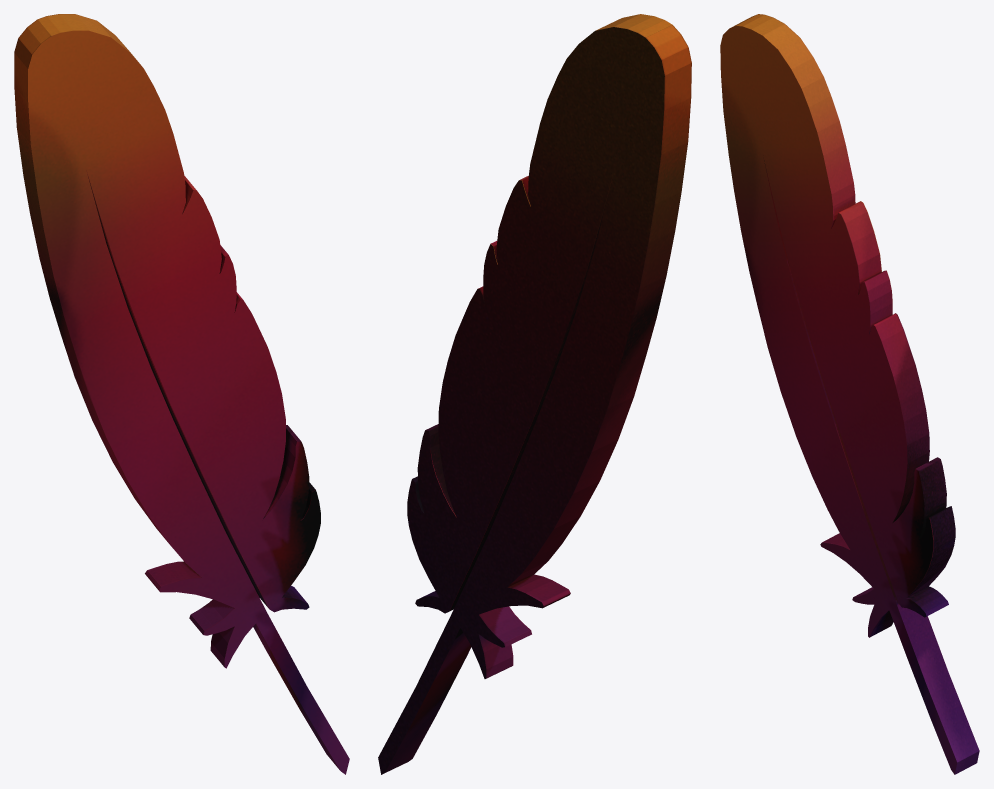
File: icon_maven_left.glb
The picture shows the model from 3 angles, left to right: view 1: azimuth 30°, elevation 25°; view 2: azimuth 150°, elevation 25°; view 3: azimuth 330°, elevation 25°; orthographic projection. The views are drawn at different scales.
Parts seen in each view (by area): view 1: icon_maven_left; view 2: icon_maven_left; view 3: icon_maven_left.
Part boxes in pixels (x1=…): icon_maven_left: x1=14, y1=14, x2=349, y2=774; icon_maven_left: x1=378, y1=14, x2=691, y2=774; icon_maven_left: x1=720, y1=14, x2=979, y2=774.
Bounding box in the file's own units: 0.4718 × 1.17 × 0.1158.
Materials: 1 (1 with a texture image).
